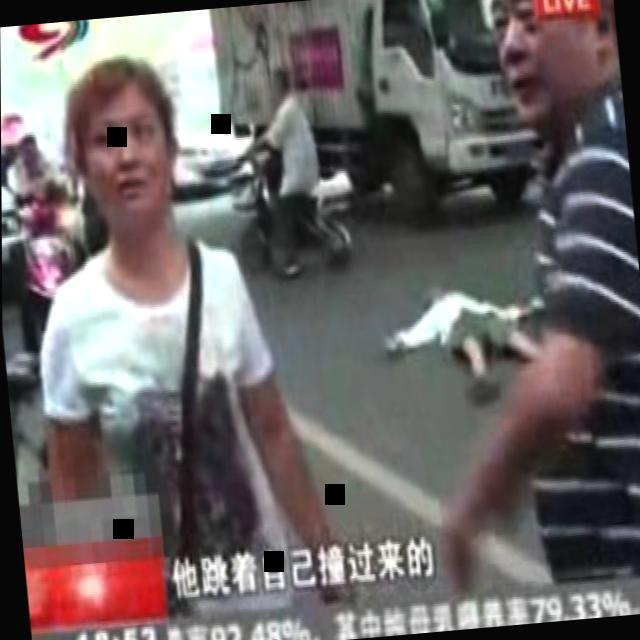Fall-Detected: (370, 227, 550, 429)
